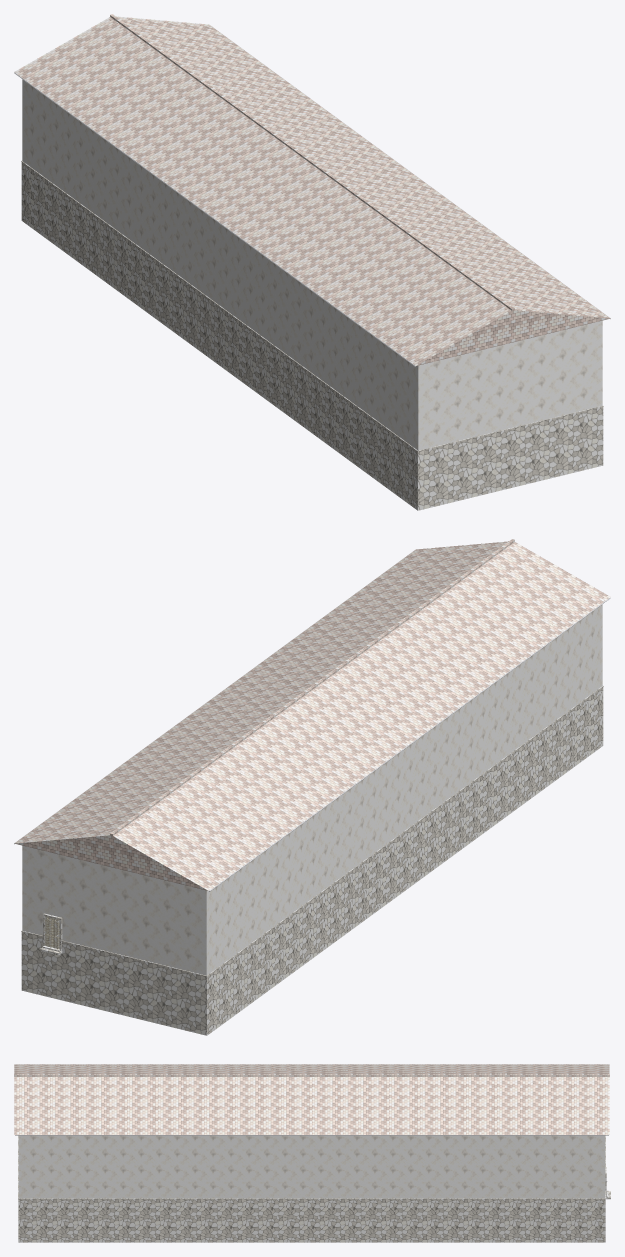
3 views of the same model, one above another, from view 1: azimuth 30°, elevation 25°; view 2: azimuth 150°, elevation 25°; view 3: azimuth 270°, elevation 25° (orthographic). The views are drawn at different scales.
Parts seen in each view (by area): view 1: b1085383205; view 2: b1085383205; view 3: b1085383205.
Part boxes in pixels (x1,y1,x2,y2): b1085383205: (14,14,610,510); b1085383205: (14,539,610,1035); b1085383205: (14,1064,610,1242).
Size of the model in its own units: 13.06 by 11.55 by 46.48.
Materials: 11 (11 with a texture image).
